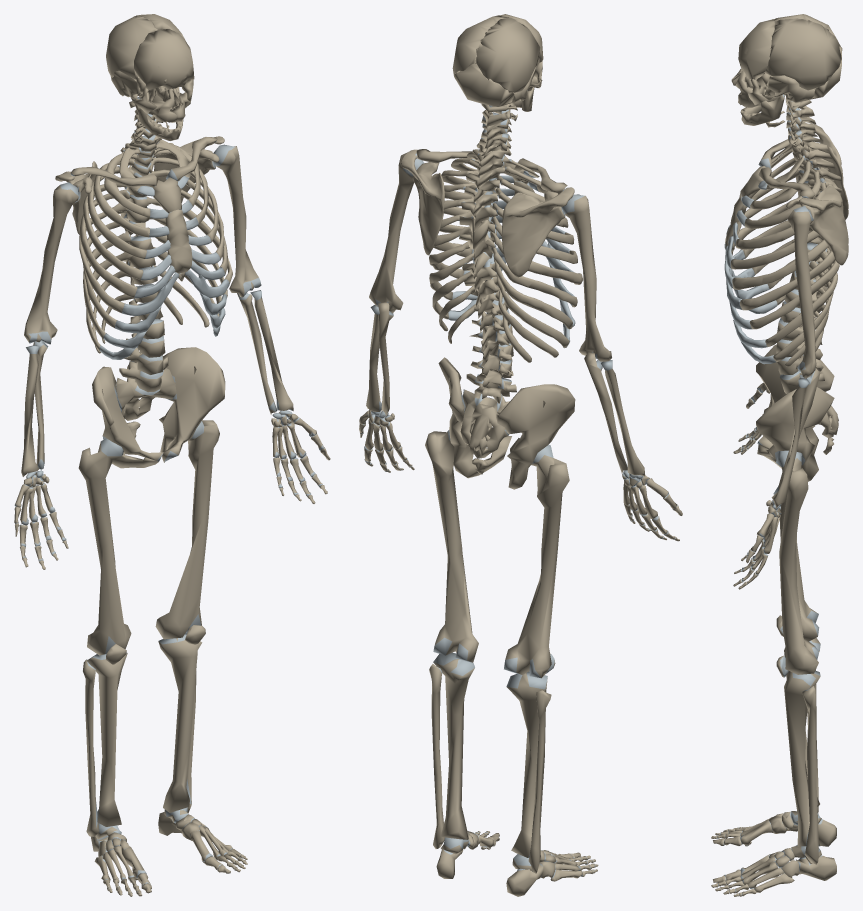
File: adult_male.skeletal.LOD3.glb
The picture shows the model from 3 angles, left to right: view 1: azimuth 30°, elevation 25°; view 2: azimuth 150°, elevation 25°; view 3: azimuth 270°, elevation 25°; orthographic projection. The views are drawn at different scales.
Parts seen in each view (by area): view 1: ADULT.MALE.SKELETAL.FEMUR.R, ADULT.MALE.SKELETAL.FEMUR.L, ADULT.MALE.SKELETAL.HIP_BONE.L, ADULT.MALE.SKELETAL.TIBIA.L, ADULT.MALE.SKELETAL.TIBIA.R, ADULT.MALE.SKELETAL.FRONTAL_BONE, ADULT.MALE.SKELETAL.HUMERUS.R, ADULT.MALE.SKELETAL.HIP_BONE.R, ADULT.MALE.SKELETAL.HUMERUS.L, ADULT.MALE.SKELETAL.PARIETAL_BONE.R, ADULT.MALE.SKELETAL.SACRUM, ADULT.MALE.SKELETAL.FIBULA.R (+19 smaller); view 2: ADULT.MALE.SKELETAL.FEMUR.R, ADULT.MALE.SKELETAL.FEMUR.L, ADULT.MALE.SKELETAL.HIP_BONE.R, ADULT.MALE.SKELETAL.SCAPULA.R, ADULT.MALE.SKELETAL.TIBIA.L, ADULT.MALE.SKELETAL.PARIETAL_BONE.R, ADULT.MALE.SKELETAL.TIBIA.R, ADULT.MALE.SKELETAL.HUMERUS.R, ADULT.MALE.SKELETAL.HUMERUS.L, ADULT.MALE.SKELETAL.SCAPULA.L, ADULT.MALE.SKELETAL.SACRUM, ADULT.MALE.SKELETAL.HIP_BONE.L (+15 smaller); view 3: ADULT.MALE.SKELETAL.FEMUR.L, ADULT.MALE.SKELETAL.PARIETAL_BONE.L, ADULT.MALE.SKELETAL.HIP_BONE.L, ADULT.MALE.SKELETAL.TIBIA.L, ADULT.MALE.SKELETAL.HUMERUS.L, ADULT.MALE.SKELETAL.SCAPULA.L, ADULT.MALE.SKELETAL.FIBULA.L, ADULT.MALE.SKELETAL.FRONTAL_BONE, ADULT.MALE.SKELETAL.HIP_BONE.R, ADULT.MALE.SKELETAL.RADIUS.L, ADULT.MALE.SKELETAL.FEMUR.R, ADULT.MALE.SKELETAL.SEVENTH_RIB.L (+28 smaller).
Boxes of the visible parts, x1,y1,x2,y2 form: ADULT.MALE.SKELETAL.FEMUR.R: [78, 438, 131, 655]; ADULT.MALE.SKELETAL.FEMUR.L: [155, 420, 219, 639]; ADULT.MALE.SKELETAL.HIP_BONE.L: [159, 347, 225, 462]; ADULT.MALE.SKELETAL.TIBIA.L: [158, 633, 198, 812]; ADULT.MALE.SKELETAL.TIBIA.R: [86, 653, 127, 826]; ADULT.MALE.SKELETAL.FRONTAL_BONE: [134, 29, 194, 90]; ADULT.MALE.SKELETAL.HUMERUS.R: [24, 182, 78, 344]; ADULT.MALE.SKELETAL.HIP_BONE.R: [92, 366, 163, 468]; ADULT.MALE.SKELETAL.HUMERUS.L: [213, 144, 261, 297]; ADULT.MALE.SKELETAL.PARIETAL_BONE.R: [106, 15, 157, 79]; ADULT.MALE.SKELETAL.SACRUM: [115, 368, 176, 420]; ADULT.MALE.SKELETAL.FIBULA.R: [83, 659, 99, 836]; ADULT.MALE.SKELETAL.FEMUR.R: [504, 444, 569, 678]; ADULT.MALE.SKELETAL.FEMUR.L: [425, 430, 478, 662]; ADULT.MALE.SKELETAL.HIP_BONE.R: [496, 384, 575, 489]; ADULT.MALE.SKELETAL.SCAPULA.R: [502, 187, 574, 277]; ADULT.MALE.SKELETAL.TIBIA.L: [433, 652, 474, 839]; ADULT.MALE.SKELETAL.PARIETAL_BONE.R: [475, 17, 540, 93]; ADULT.MALE.SKELETAL.TIBIA.R: [506, 671, 547, 857]; ADULT.MALE.SKELETAL.HUMERUS.R: [562, 194, 611, 361]; ADULT.MALE.SKELETAL.HUMERUS.L: [369, 152, 424, 313]; ADULT.MALE.SKELETAL.SCAPULA.L: [401, 149, 444, 255]; ADULT.MALE.SKELETAL.SACRUM: [460, 389, 509, 458]; ADULT.MALE.SKELETAL.HIP_BONE.L: [438, 357, 511, 478]; ADULT.MALE.SKELETAL.FEMUR.L: [775, 450, 819, 674]; ADULT.MALE.SKELETAL.PARIETAL_BONE.L: [764, 19, 841, 90]; ADULT.MALE.SKELETAL.HIP_BONE.L: [756, 387, 834, 481]; ADULT.MALE.SKELETAL.TIBIA.L: [784, 670, 820, 846]; ADULT.MALE.SKELETAL.HUMERUS.L: [787, 206, 816, 378]; ADULT.MALE.SKELETAL.SCAPULA.L: [786, 184, 848, 265]; ADULT.MALE.SKELETAL.FIBULA.L: [802, 686, 818, 864]; ADULT.MALE.SKELETAL.FRONTAL_BONE: [738, 18, 775, 79]; ADULT.MALE.SKELETAL.HIP_BONE.R: [756, 344, 834, 454]; ADULT.MALE.SKELETAL.RADIUS.L: [771, 378, 809, 507]; ADULT.MALE.SKELETAL.FEMUR.R: [779, 496, 819, 641]; ADULT.MALE.SKELETAL.SEVENTH_RIB.L: [740, 250, 835, 310].
Bounding box in the file's own units: 0.6694 × 1.7 × 0.2498.
